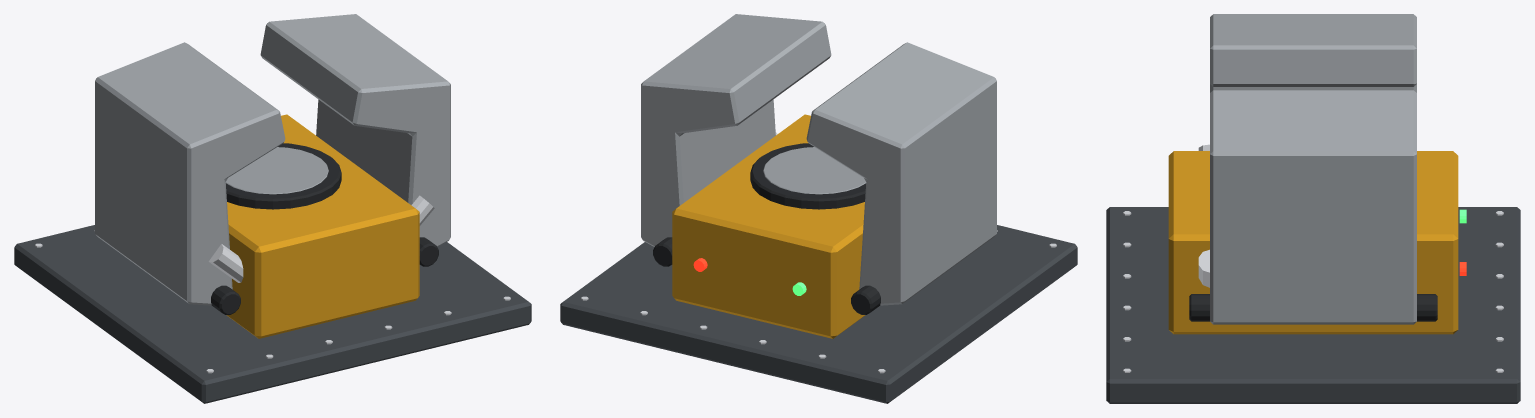
The model's file is docking_clamp.glb.
The picture shows the model from 3 angles, left to right: view 1: azimuth 30°, elevation 25°; view 2: azimuth 150°, elevation 25°; view 3: azimuth 270°, elevation 25°; orthographic projection. The views are drawn at different scales.
Visible parts, largest first — view 1: base, jaw_l, jaw_r; view 2: base, jaw_l, jaw_r; view 3: base, jaw_r, jaw_l.
Part boxes in pixels (box(x1,y1,x2,y2)): base: box(14, 114, 531, 403); jaw_l: box(95, 42, 285, 305); jaw_r: box(260, 14, 450, 246); base: box(560, 114, 1077, 403); jaw_l: box(806, 42, 996, 305); jaw_r: box(641, 14, 831, 246); base: box(1106, 144, 1520, 403); jaw_r: box(1210, 90, 1416, 324); jaw_l: box(1210, 14, 1416, 92).
Size of the model in its own units: 1.2 by 0.8 by 1.2.
